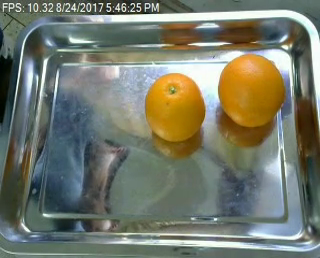Orange: (218, 53, 286, 126), (143, 72, 204, 143)
